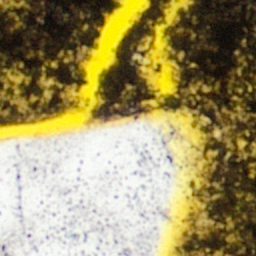cement_matrix: (162, 0, 255, 255), (0, 0, 117, 123), (95, 0, 169, 117), (8, 73, 21, 85), (211, 128, 225, 138), (43, 78, 51, 90), (17, 100, 26, 108)
cracks: (0, 0, 212, 255), (9, 74, 20, 84), (44, 79, 50, 89), (18, 101, 25, 107)
gravel_crushed_stones: (0, 118, 185, 255), (212, 129, 224, 137)
